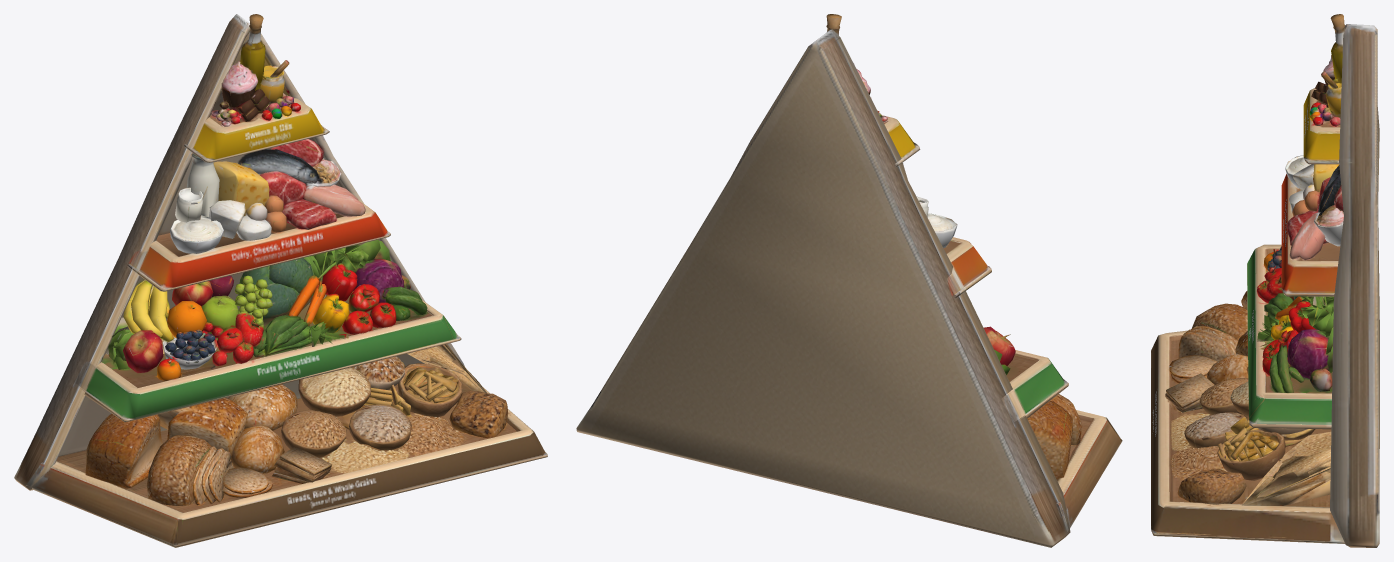
File: Food_Pyramid.glb
3 renders of one model, left to right at view 1: azimuth 30°, elevation 25°; view 2: azimuth 150°, elevation 25°; view 3: azimuth 270°, elevation 25°, orthographic. The views are drawn at different scales.
Size of the model in its own units: 0.9575 by 0.8804 by 0.4292.
1 material, 1 textured.
